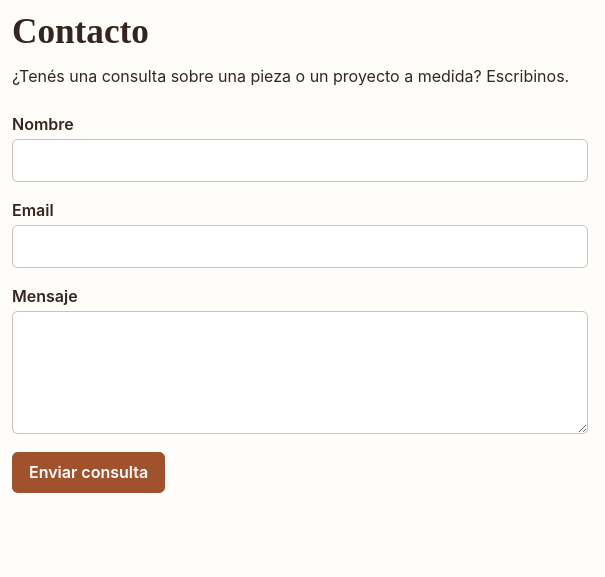
ContactForm › no envía un formulario inválido y muestra los errores
Click the button "Enviar consulta". click: (89, 472)
box: [12, 452, 165, 493]
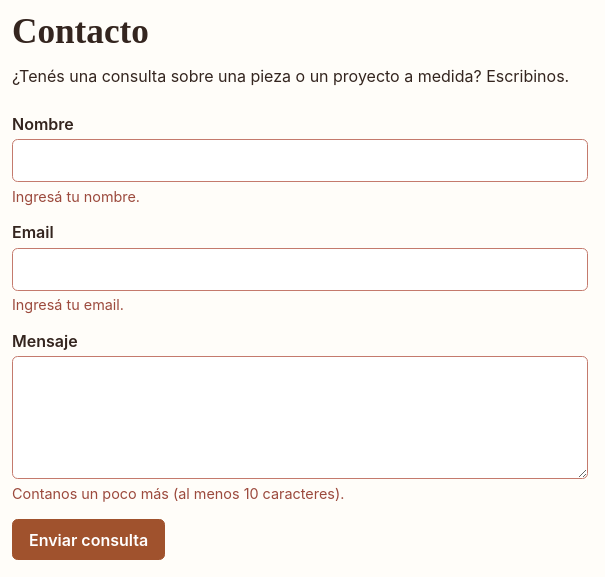
Result: the number of elements with class "contact__error" is 3 at [12, 188, 140, 205]; [12, 296, 124, 313]; [12, 485, 344, 502]
